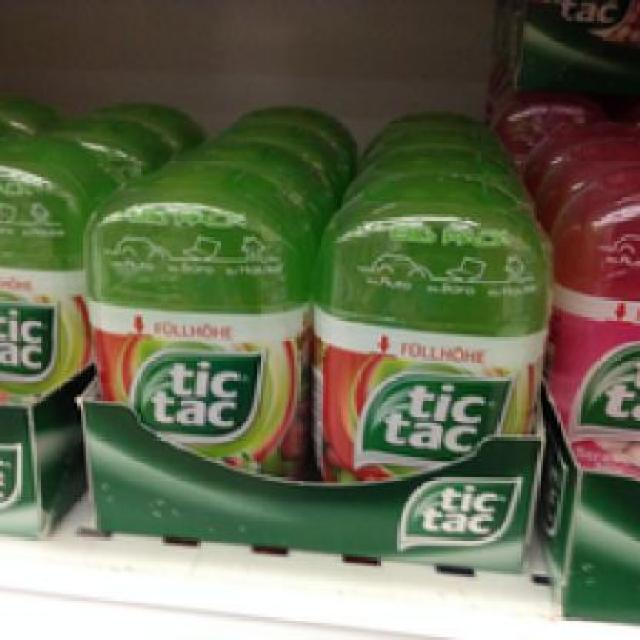Candy: (286, 177, 548, 554), (77, 160, 306, 523), (522, 194, 638, 506), (0, 126, 97, 454)
